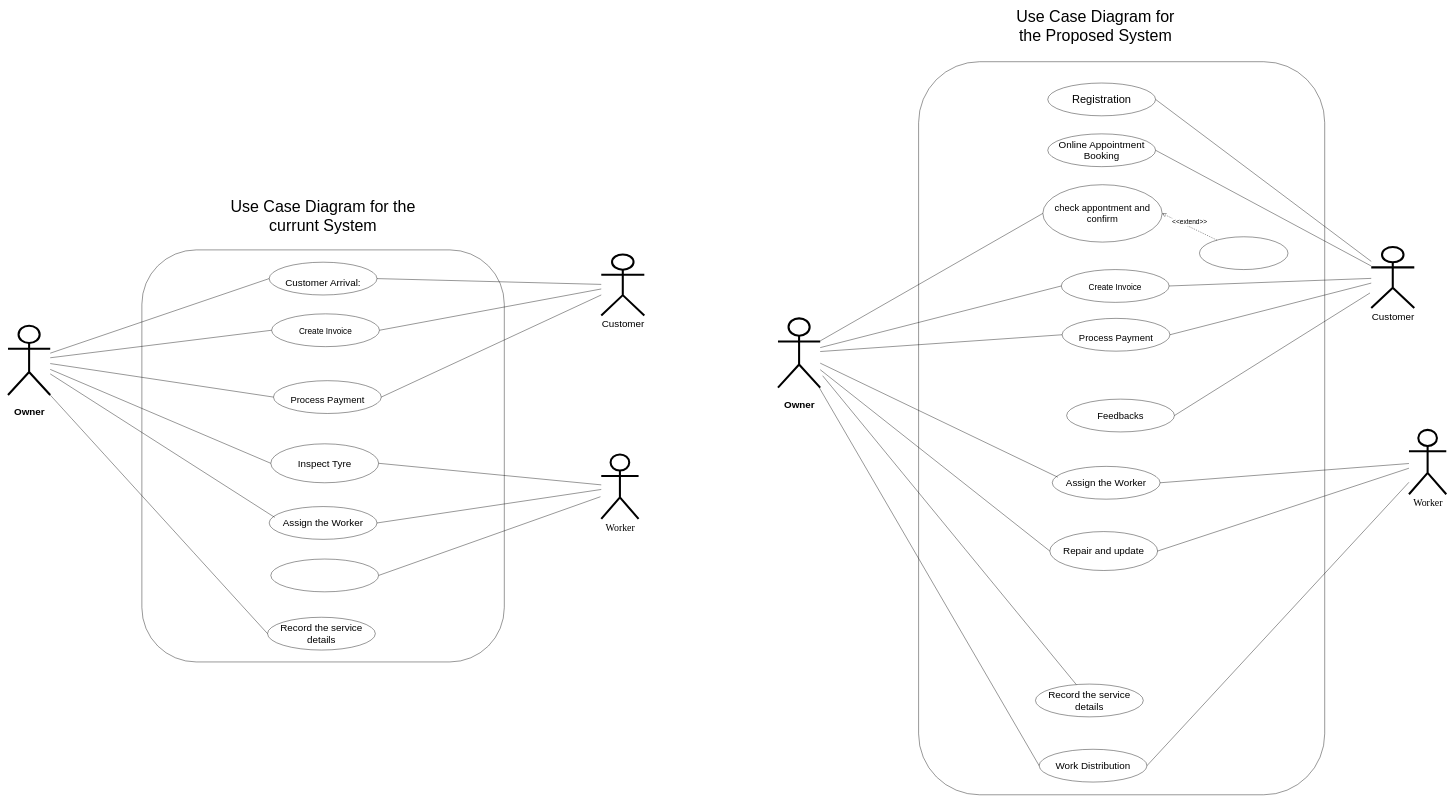
This 1454x802 diagram has some shape labels left out. Here are the shapes that lost their labels. From the top down, the centre of each, then its label:
At point (1243, 253): "order cancelled".
At point (324, 575): "Service Performed".
